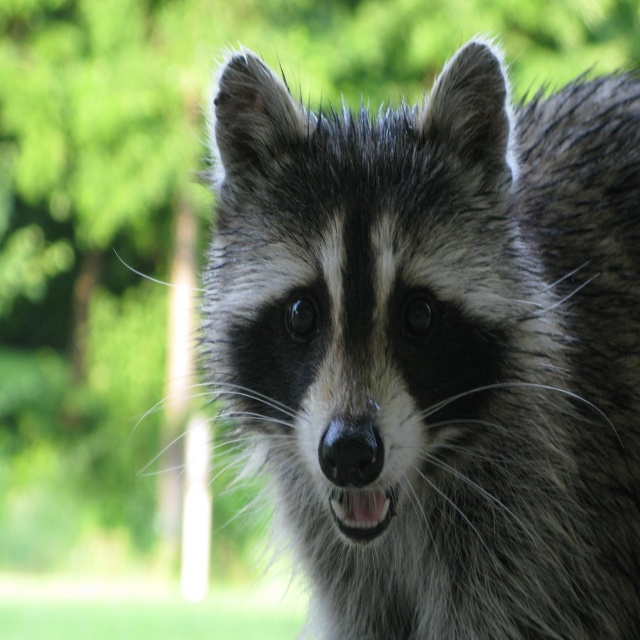Raccoon: (112, 30, 640, 639)
